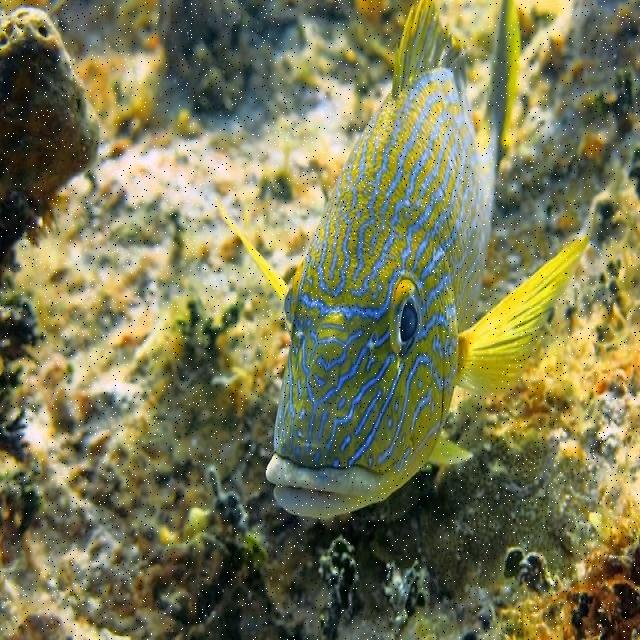fish: (266, 0, 590, 519)
